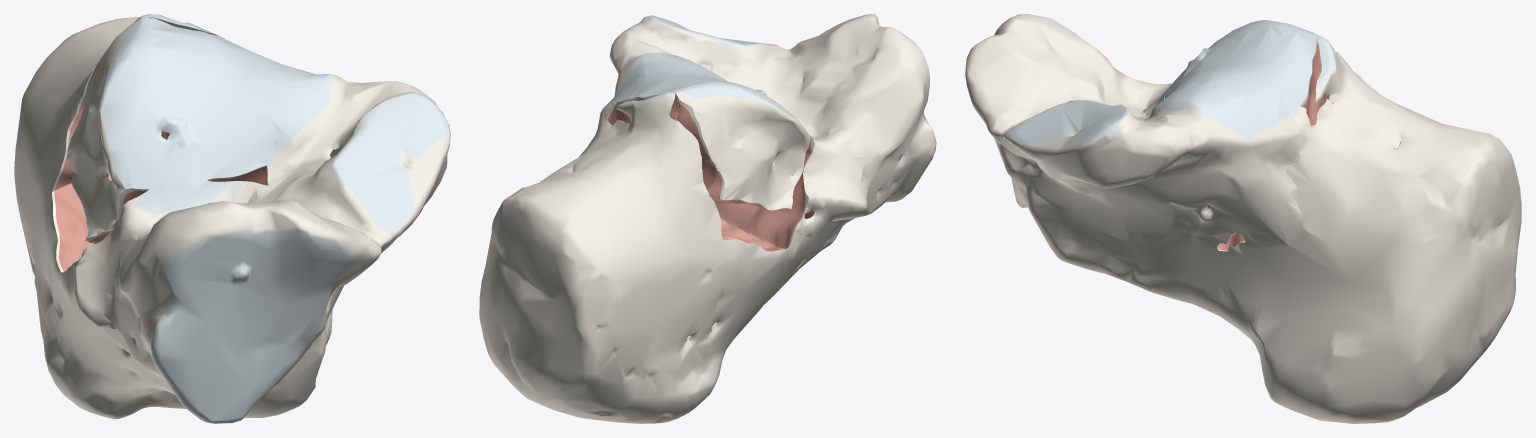
The model's file is 82C2_elderly.glb.
The picture shows the model from 3 angles, left to right: view 1: azimuth 30°, elevation 25°; view 2: azimuth 150°, elevation 25°; view 3: azimuth 270°, elevation 25°; orthographic projection. The views are drawn at different scales.
Visible parts, largest first — view 1: calcaneus: sustentacular fragment, calcaneus: tuberosity, calcaneus: lateral joint fragment, calcaneus: central depressed fragment; view 2: calcaneus: tuberosity, calcaneus: sustentacular fragment, calcaneus: lateral joint fragment, calcaneus: central depressed fragment; view 3: calcaneus: tuberosity, calcaneus: sustentacular fragment, calcaneus: central depressed fragment, calcaneus: lateral joint fragment.
Boxes of the visible parts, x1=… form: calcaneus: sustentacular fragment: x1=105, y1=60, x2=450, y2=423; calcaneus: tuberosity: x1=14, y1=14, x2=332, y2=419; calcaneus: lateral joint fragment: x1=67, y1=23, x2=211, y2=243; calcaneus: central depressed fragment: x1=133, y1=17, x2=276, y2=184; calcaneus: tuberosity: x1=479, y1=91, x2=867, y2=423; calcaneus: sustentacular fragment: x1=597, y1=14, x2=936, y2=252; calcaneus: lateral joint fragment: x1=677, y1=80, x2=810, y2=210; calcaneus: central depressed fragment: x1=610, y1=63, x2=729, y2=124; calcaneus: tuberosity: x1=1112, y1=36, x2=1521, y2=423; calcaneus: sustentacular fragment: x1=965, y1=14, x2=1305, y2=277; calcaneus: central depressed fragment: x1=1164, y1=30, x2=1324, y2=208; calcaneus: lateral joint fragment: x1=1165, y1=20, x2=1326, y2=102.
Size of the model in its own units: 0.0475 by 0.0513 by 0.0757.
